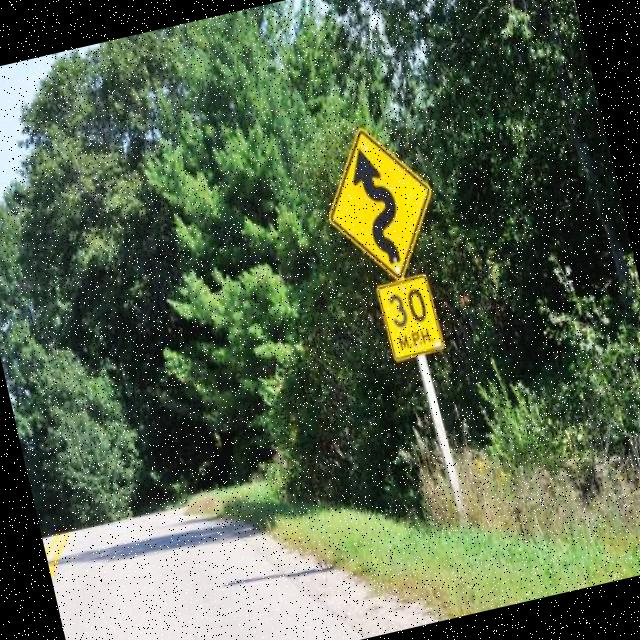left_sharp_curve: (304, 109, 458, 298)
